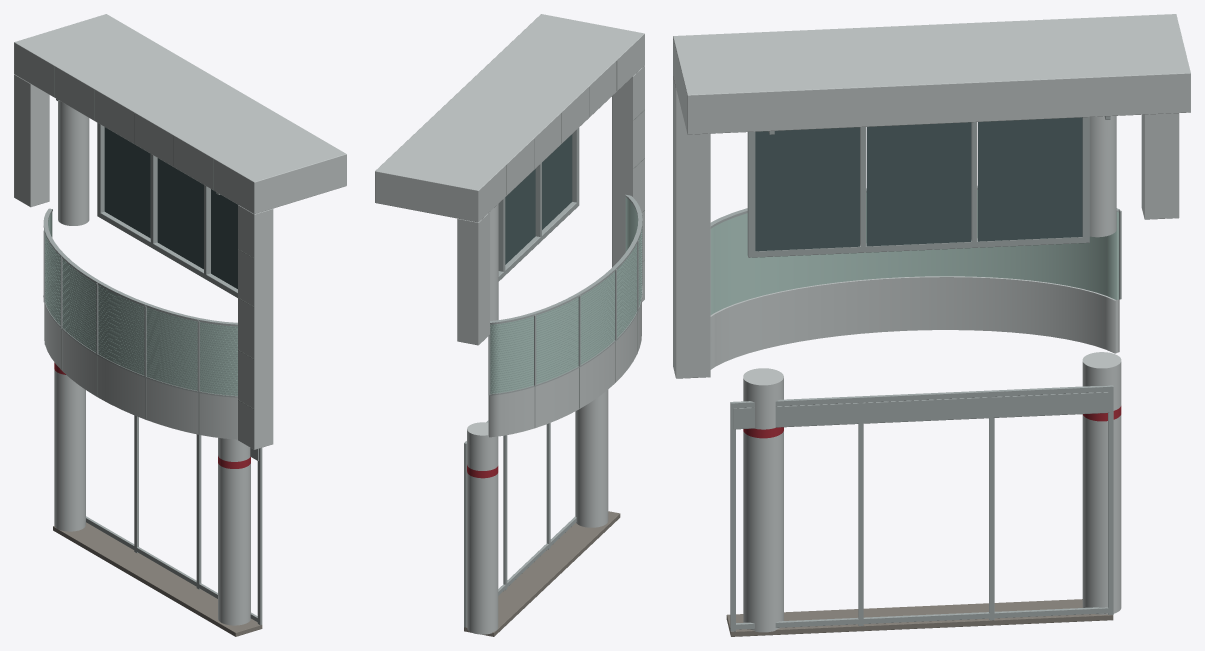
File: hachiko-policebox.glb
The picture shows the model from 3 angles, left to right: view 1: azimuth 30°, elevation 25°; view 2: azimuth 150°, elevation 25°; view 3: azimuth 270°, elevation 25°; orthographic projection. The views are drawn at different scales.
Parts seen in each view (by area): view 1: Silver satin exterior | estimated, Pale green lined surface | material unconfirmed, Upper visible aperture pane proxy, Silver edge | estimated, Fine green lining | geometric proxy, Provisional lower threshold, Soft panel seam; view 2: Silver satin exterior | estimated, Pale green lined surface | material unconfirmed, Silver edge | estimated, Fine green lining | geometric proxy, Upper visible aperture pane proxy, Provisional lower threshold, Soft panel seam; view 3: Silver satin exterior | estimated, Upper visible aperture pane proxy, Silver edge | estimated, Pale green lined surface | material unconfirmed, Provisional lower threshold.
Part boxes in pixels (x1,y1,x2,y2): Silver satin exterior | estimated: (14,14,346,625); Pale green lined surface | material unconfirmed: (45,212,237,395); Upper visible aperture pane proxy: (104,127,237,288); Silver edge | estimated: (43,99,262,625); Fine green lining | geometric proxy: (45,233,237,394); Provisional lower threshold: (53,522,262,636); Soft panel seam: (44,66,253,433); Silver satin exterior | estimated: (375,14,644,634); Pale green lined surface | material unconfirmed: (490,197,641,393); Silver edge | estimated: (464,127,642,627); Fine green lining | geometric proxy: (490,229,642,392); Upper visible aperture pane proxy: (505,134,572,264); Provisional lower threshold: (464,511,620,636); Soft panel seam: (506,61,644,427); Silver satin exterior | estimated: (673,14,1190,632); Upper visible aperture pane proxy: (755,117,1082,251); Silver edge | estimated: (710,116,1121,631); Pale green lined surface | material unconfirmed: (710,190,1119,314); Provisional lower threshold: (726,599,1113,636).
Size of the model in its own units: 2.4 by 6.6 by 5.32.
